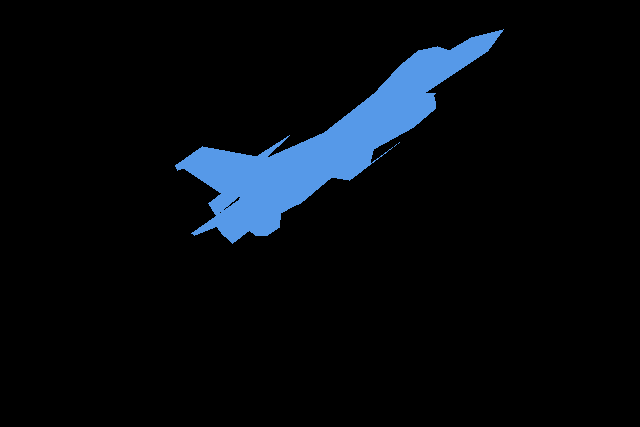Airplane: (175, 29, 504, 243)
